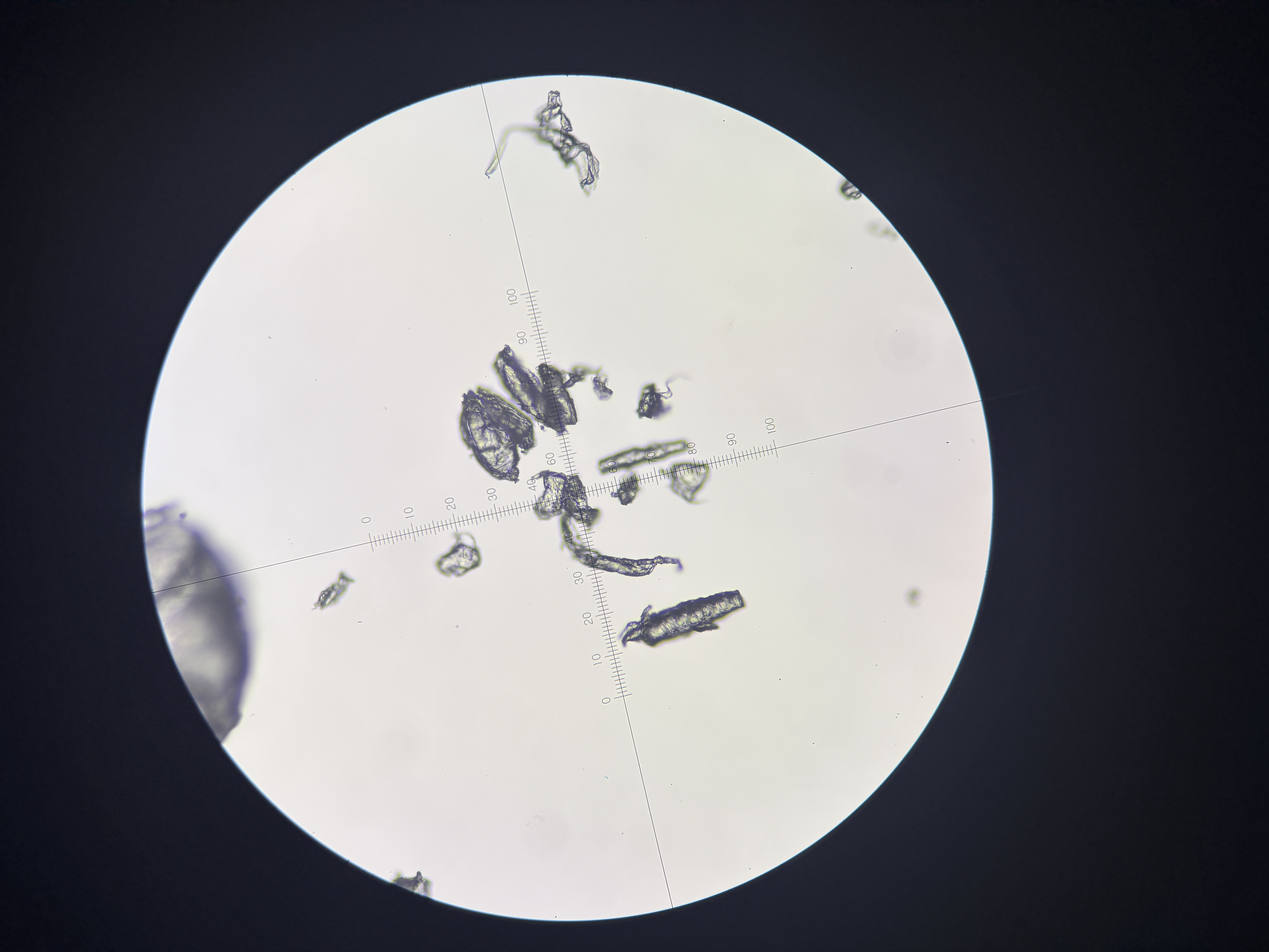microplastic: (484, 90, 600, 198), (619, 589, 747, 649), (490, 344, 569, 435), (458, 389, 521, 484), (476, 386, 537, 454), (597, 439, 688, 476), (538, 363, 578, 426), (433, 530, 483, 580), (659, 462, 711, 505), (310, 570, 356, 611), (634, 380, 674, 420), (391, 870, 432, 900), (610, 474, 642, 506), (561, 365, 603, 388), (592, 374, 614, 402), (867, 222, 899, 241), (839, 179, 863, 201), (906, 588, 921, 606), (540, 424, 547, 433)
